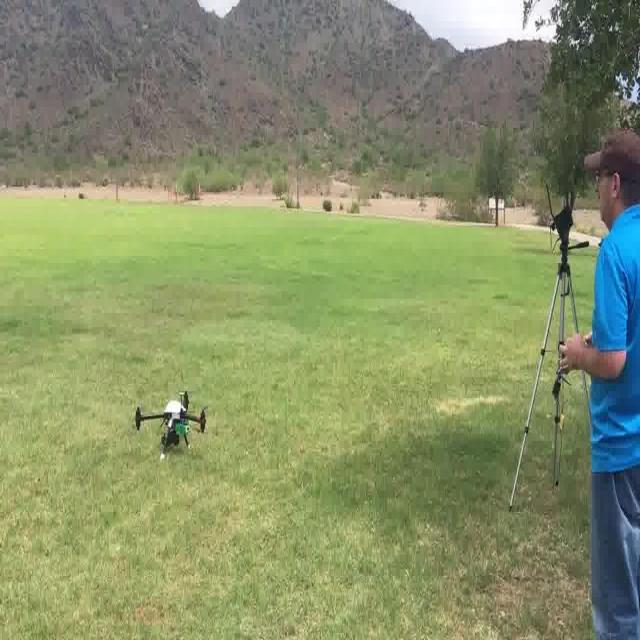drone: (128, 373, 216, 467)
